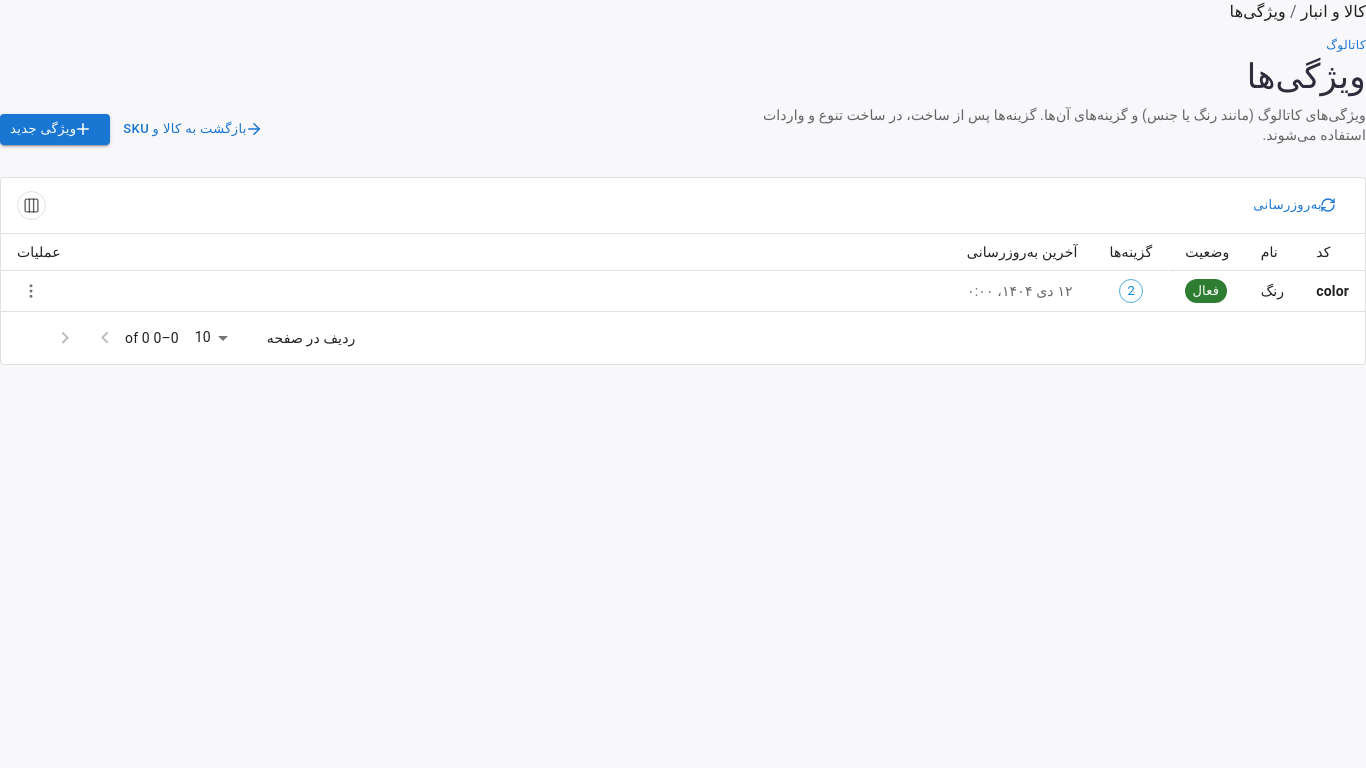
Test case: AttributesView › opens the options dialog from the row menu
Click the button named "اقدامات رنگ".
click(31, 291)  # box [17,277,45,305]
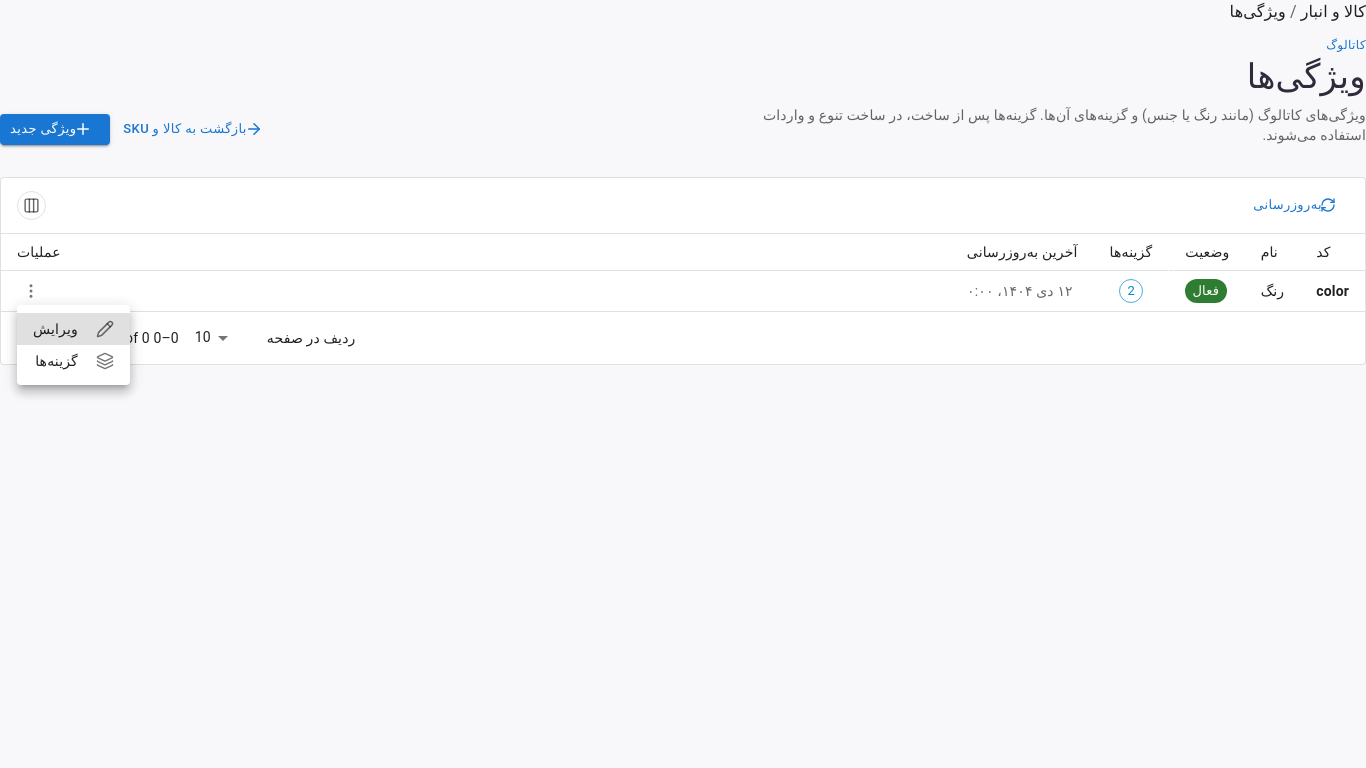
Click the menu item "گزینه‌ها".
click(75, 361)  # box [35,352,114,370]
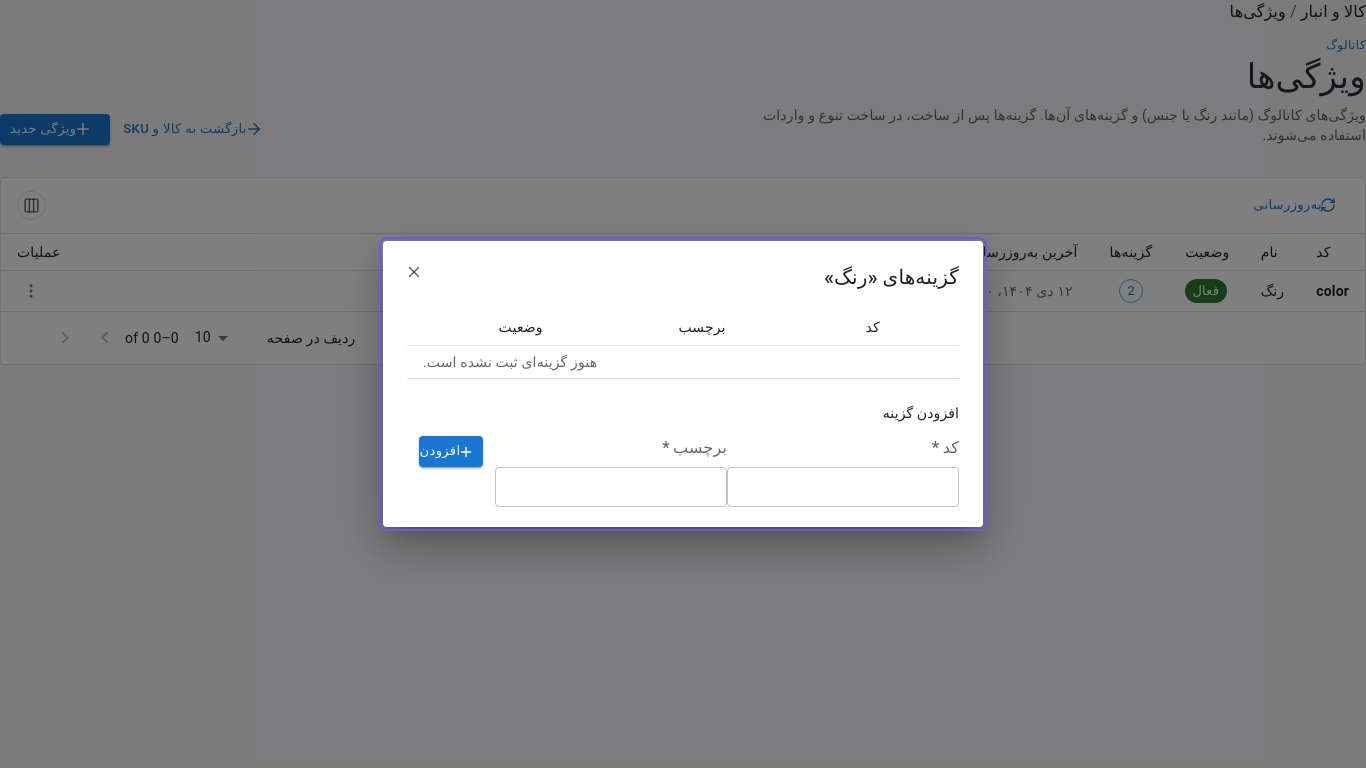
Expected: the dialog "گزینه‌های «رنگ»" is shown, [383,240,983,528]
